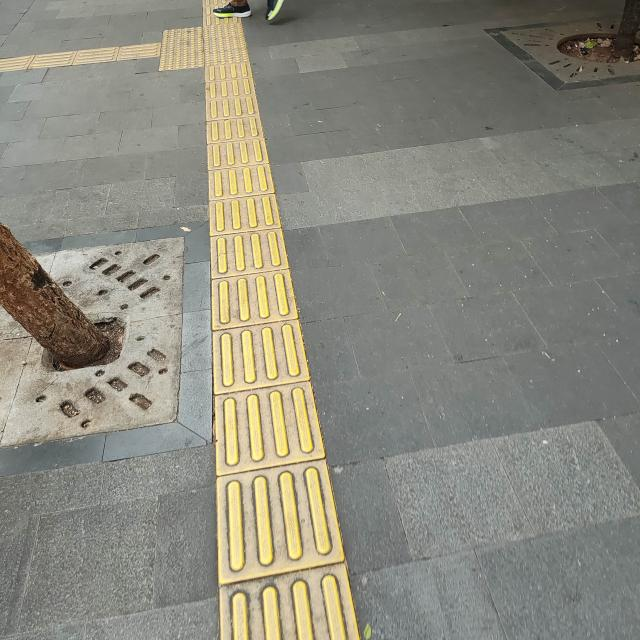lurus: (175, 72, 353, 640)
